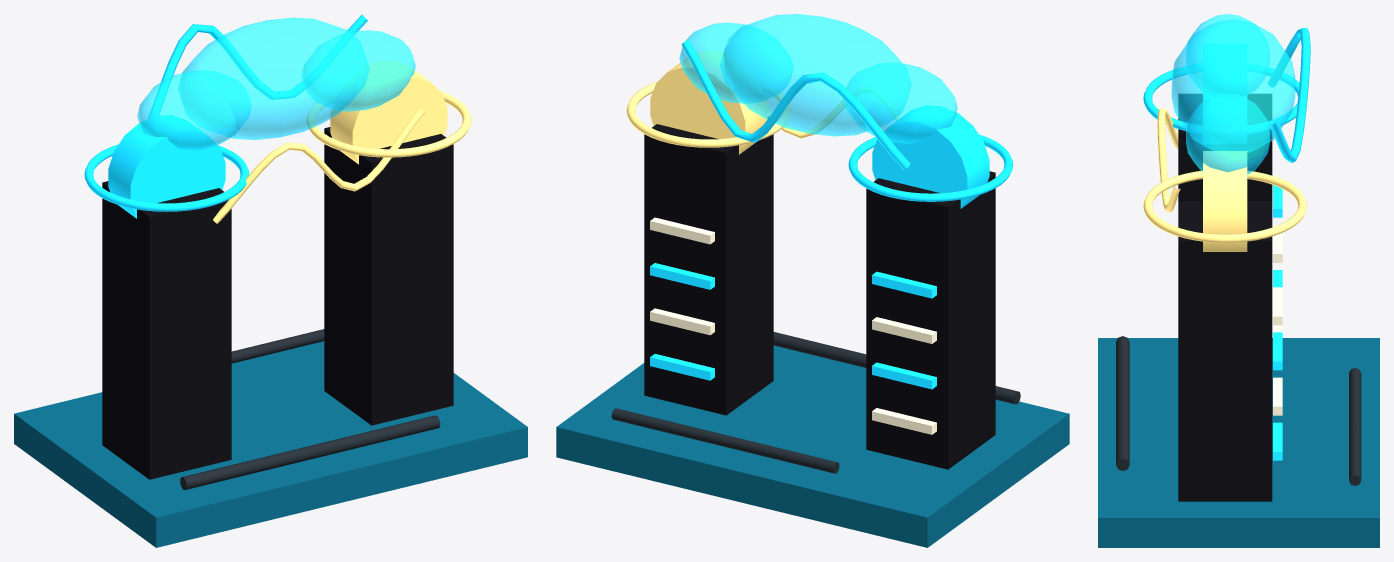
The model's file is cloud-energy-anchor.glb.
The picture shows the model from 3 angles, left to right: view 1: azimuth 30°, elevation 25°; view 2: azimuth 150°, elevation 25°; view 3: azimuth 270°, elevation 25°; orthographic projection.
Parts seen in each view (by area): view 1: anchor-service-pad, anchor-rack-left, anchor-rack-right, anchor-cloud-core, left-energy-coil, anchor-cloud-right, right-energy-coil, anchor-cloud-left, ground-cable-a, primary-electric-arc, left-coil-ring, right-coil-ring (+2 smaller); view 2: anchor-service-pad, anchor-rack-left, anchor-rack-right, anchor-cloud-core, left-energy-coil, anchor-cloud-right, anchor-cloud-left, right-energy-coil, primary-electric-arc, ground-cable-b, left-coil-ring, right-coil-ring (+10 smaller); view 3: anchor-service-pad, anchor-rack-right, anchor-cloud-core, anchor-cloud-left, anchor-cloud-right, right-energy-coil, anchor-rack-left, right-coil-ring, primary-electric-arc, ground-cable-a, ground-cable-b, left-coil-ring (+5 smaller).
Part boxes in pixels (left/top/right/bottom): anchor-service-pad: left=14, top=341, right=527, bottom=547; anchor-rack-left: left=102, top=181, right=231, bottom=479; anchor-rack-right: left=324, top=127, right=453, bottom=425; anchor-cloud-core: left=178, top=17, right=368, bottom=139; left-energy-coil: left=108, top=115, right=225, bottom=218; anchor-cloud-right: left=302, top=30, right=415, bottom=111; right-energy-coil: left=330, top=61, right=447, bottom=164; anchor-cloud-left: left=137, top=71, right=250, bottom=150; ground-cable-a: left=180, top=415, right=440, bottom=489; primary-electric-arc: left=148, top=14, right=367, bottom=118; left-coil-ring: left=84, top=144, right=249, bottom=211; right-coil-ring: left=306, top=91, right=471, bottom=157; anchor-service-pad: left=556, top=345, right=1069, bottom=547; anchor-rack-left: left=866, top=171, right=995, bottom=469; anchor-rack-right: left=644, top=117, right=773, bottom=415; anchor-cloud-core: left=720, top=14, right=910, bottom=136; left-energy-coil: left=872, top=105, right=989, bottom=208; anchor-cloud-right: left=679, top=22, right=792, bottom=103; anchor-cloud-left: left=844, top=63, right=957, bottom=143; right-energy-coil: left=650, top=51, right=767, bottom=154; primary-electric-arc: left=681, top=40, right=910, bottom=169; ground-cable-b: left=611, top=408, right=839, bottom=473; left-coil-ring: left=848, top=134, right=1013, bottom=201; right-coil-ring: left=626, top=81, right=790, bottom=147; anchor-service-pad: left=1098, top=338, right=1379, bottom=547; anchor-rack-right: left=1178, top=201, right=1272, bottom=501; anchor-cloud-core: left=1171, top=19, right=1295, bottom=151; anchor-cloud-left: left=1186, top=14, right=1269, bottom=96; anchor-cloud-right: left=1186, top=94, right=1269, bottom=174; right-energy-coil: left=1203, top=151, right=1247, bottom=251; anchor-rack-left: left=1178, top=94, right=1272, bottom=201; right-coil-ring: left=1143, top=170, right=1306, bottom=242; primary-electric-arc: left=1268, top=28, right=1310, bottom=162; ground-cable-a: left=1116, top=336, right=1129, bottom=470; ground-cable-b: left=1349, top=368, right=1361, bottom=485; left-coil-ring: left=1143, top=66, right=1299, bottom=130.
Size of the model in its own units: 1.54 by 1.69 by 1.02.
